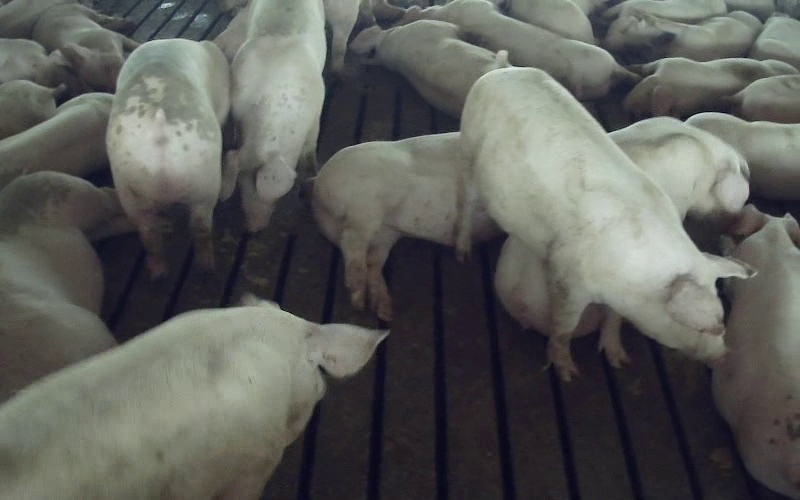pig: (457, 67, 752, 379), (0, 297, 387, 499), (0, 171, 125, 402), (107, 39, 228, 276), (311, 133, 461, 320), (713, 205, 799, 499), (399, 0, 637, 99), (350, 20, 509, 117), (610, 117, 748, 219), (0, 93, 112, 189), (624, 57, 797, 117), (687, 112, 799, 199), (32, 4, 137, 91), (604, 0, 726, 51), (653, 11, 761, 61), (732, 74, 799, 122), (749, 13, 799, 68)
